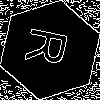R: (25, 25, 78, 70)
